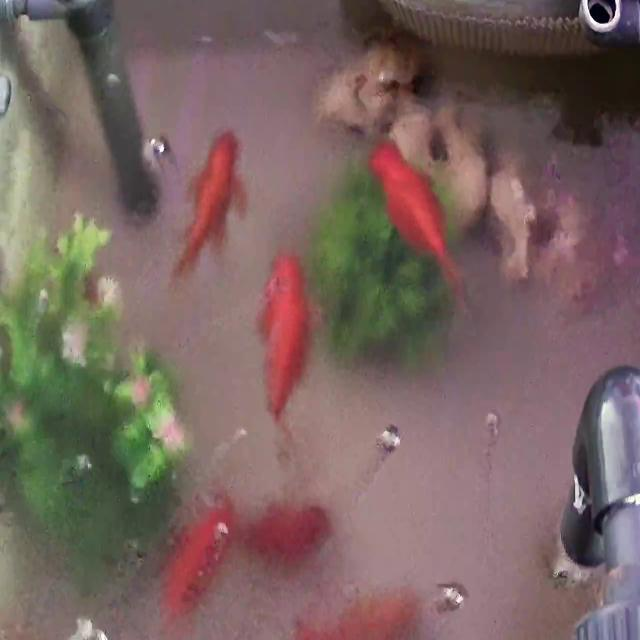fish: (368, 137, 466, 310), (170, 130, 246, 287), (256, 253, 312, 439), (158, 497, 235, 620), (234, 499, 330, 563), (329, 583, 413, 640)
